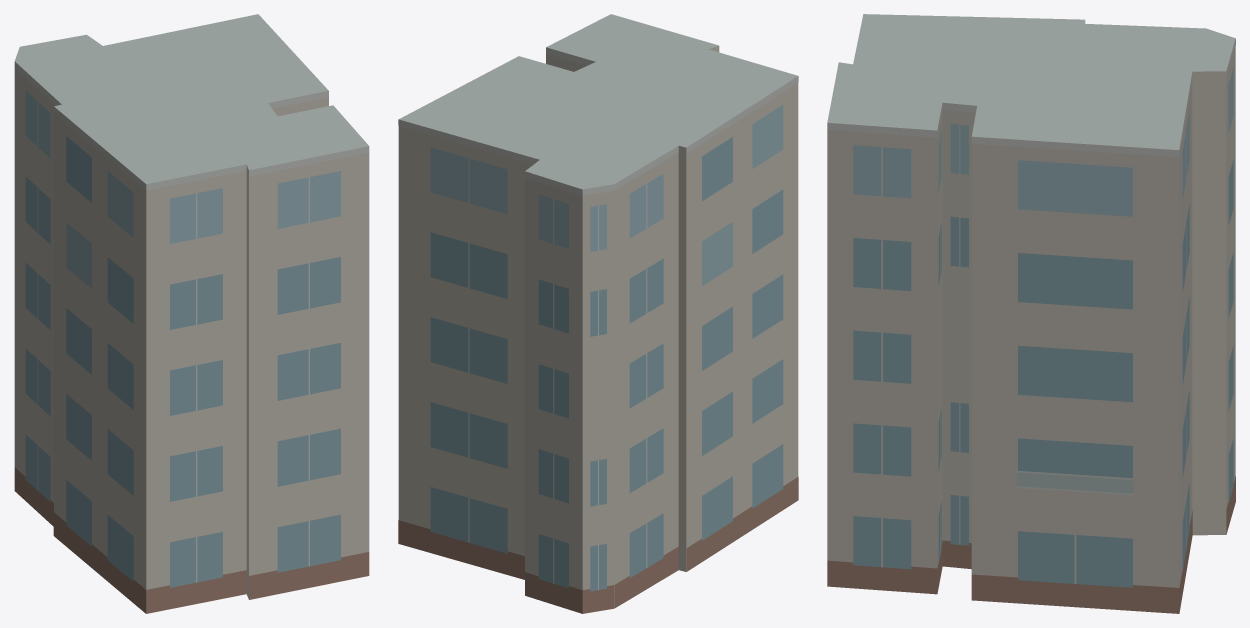
File: survey-upis-32510732.glb
The picture shows the model from 3 angles, left to right: view 1: azimuth 30°, elevation 25°; view 2: azimuth 150°, elevation 25°; view 3: azimuth 270°, elevation 25°; orthographic projection. The views are drawn at different scales.
Visible parts, largest first — view 1: survey-upis-32510732.tmp; view 2: survey-upis-32510732.tmp; view 3: survey-upis-32510732.tmp.
Part boxes in pixels (left/top/right/bottom): survey-upis-32510732.tmp: left=14, top=14, right=369, bottom=613; survey-upis-32510732.tmp: left=398, top=14, right=798, bottom=613; survey-upis-32510732.tmp: left=827, top=14, right=1235, bottom=613.
Bounding box in the file's own units: 10.15 × 16.1 × 12.86.
